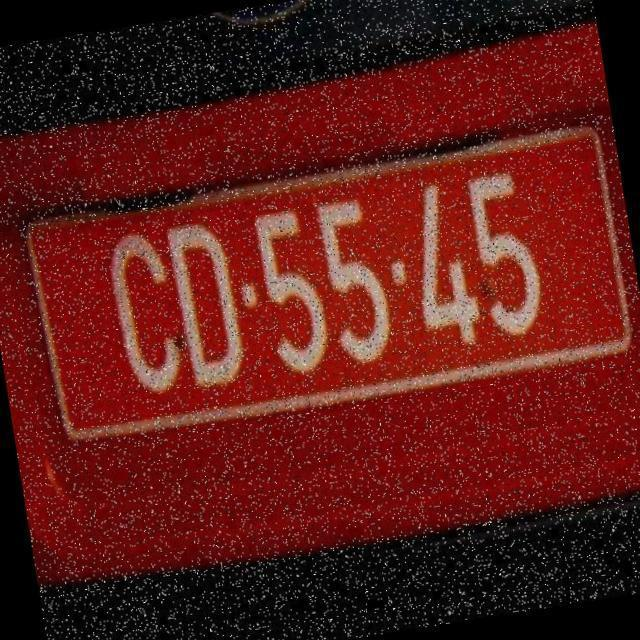License Plate: (2, 84, 640, 476)
